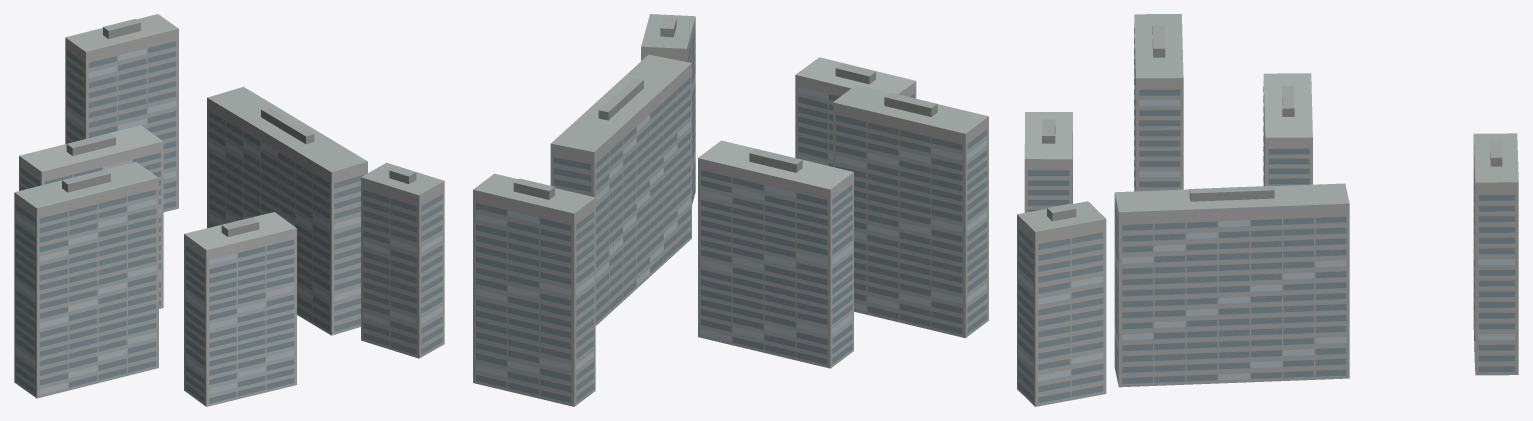
The model's file is apt-a13075404.glb.
The picture shows the model from 3 angles, left to right: view 1: azimuth 30°, elevation 25°; view 2: azimuth 150°, elevation 25°; view 3: azimuth 270°, elevation 25°; orthographic projection. The views are drawn at different scales.
Visible parts, largest first — view 1: apt-a13075404; view 2: apt-a13075404; view 3: apt-a13075404.
Part boxes in pixels (<box>): apt-a13075404: <box>14,14,444,406</box>; apt-a13075404: <box>473,14,988,406</box>; apt-a13075404: <box>1017,14,1518,406</box>.
Bounding box in the file's own units: 111 × 58 × 124.
